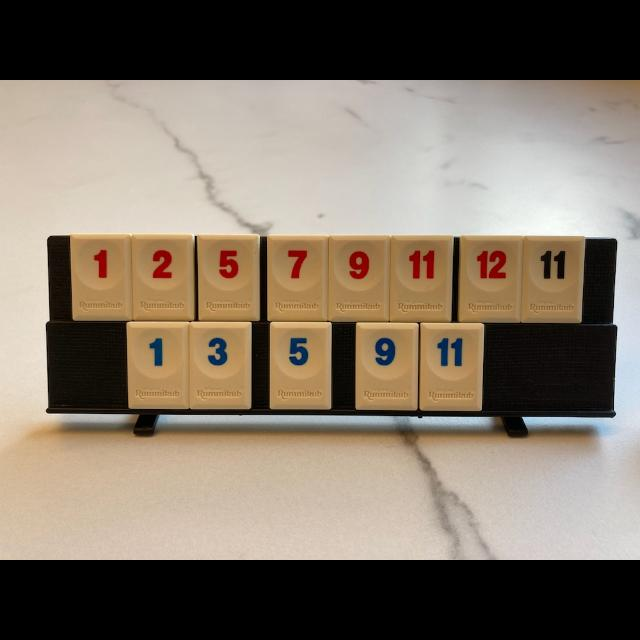black_11: (521, 236, 585, 322)
blue_1: (128, 321, 190, 409)
blue_11: (419, 324, 484, 411)
blue_3: (190, 323, 251, 409)
blue_5: (270, 322, 331, 409)
blue_9: (355, 322, 419, 410)
red_1: (70, 234, 132, 321)
red_11: (390, 235, 454, 321)
red_12: (458, 235, 522, 322)
red_2: (131, 234, 194, 320)
red_5: (198, 235, 260, 321)
red_7: (268, 235, 328, 321)
red_9: (329, 236, 390, 321)
